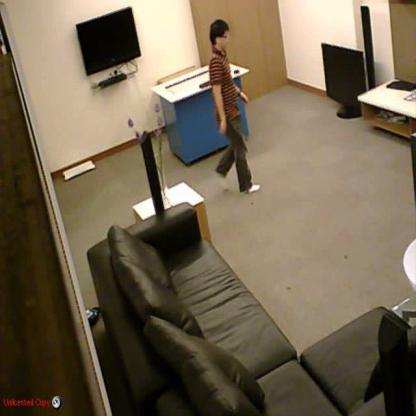Person: (208, 16, 261, 194)
